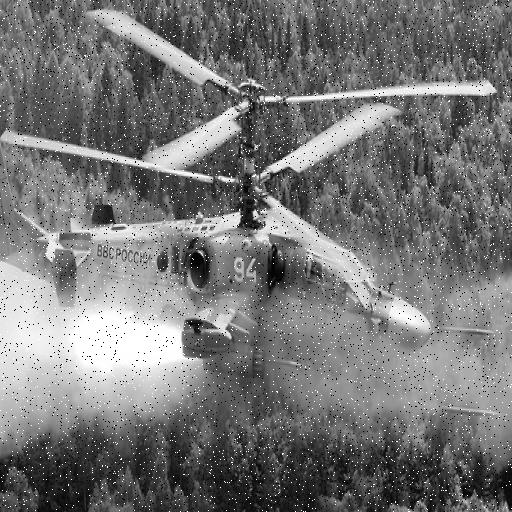helicopter: (1, 1, 495, 421)
